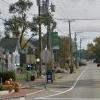Tree: (7, 1, 56, 50)
